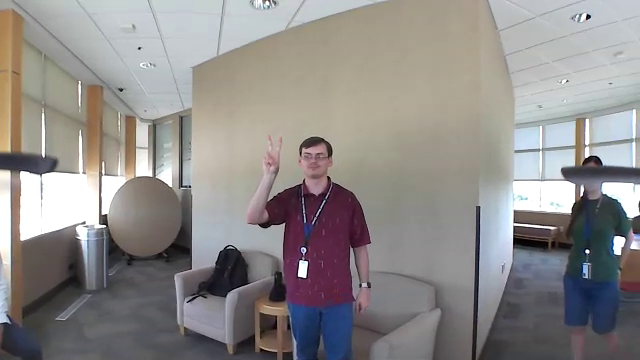peace: (258, 131, 287, 177)
